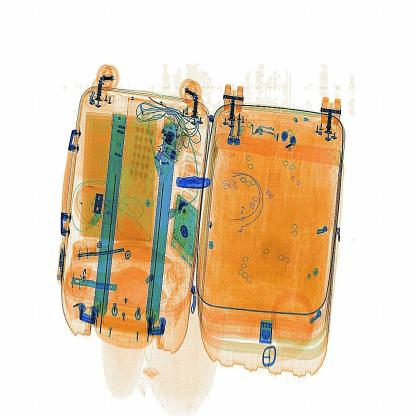knife: (170, 165, 219, 194)
